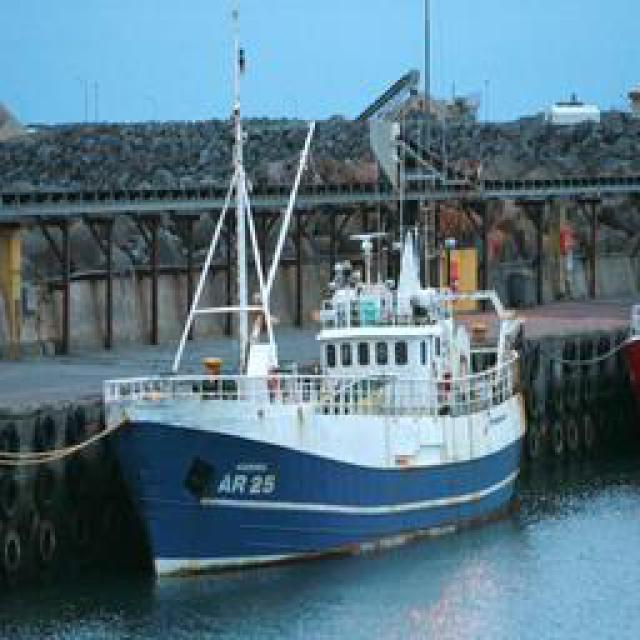Ship: (62, 112, 535, 565)
